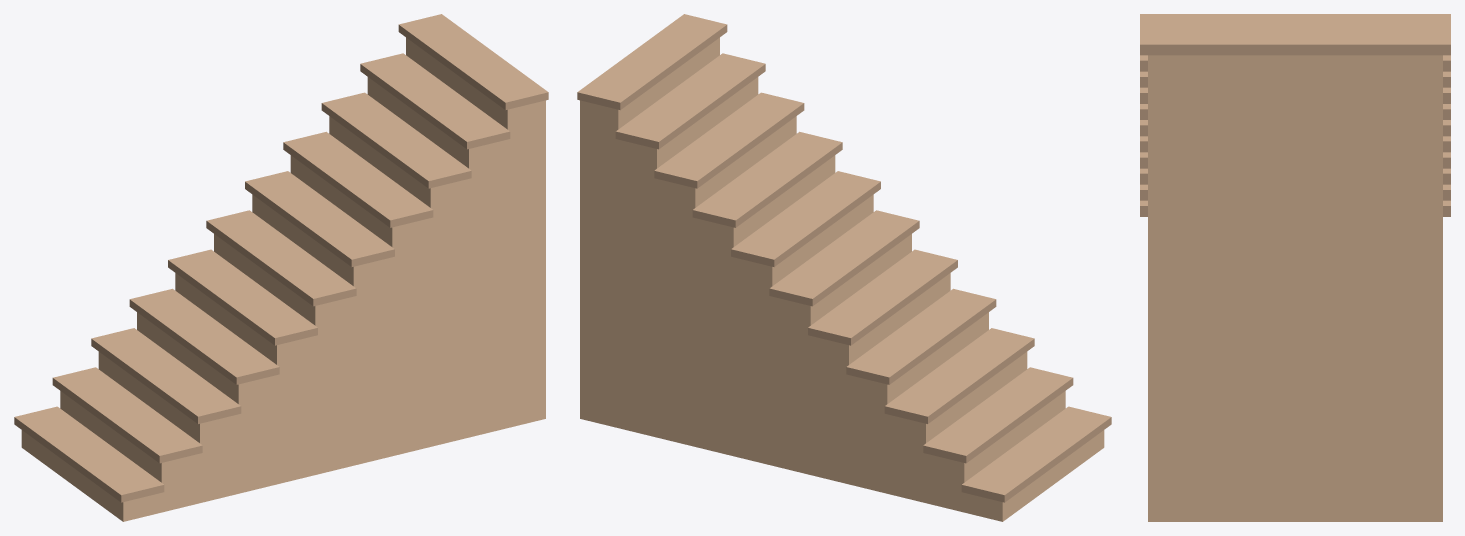
File: stairs.glb
3 renders of one model, left to right at view 1: azimuth 30°, elevation 25°; view 2: azimuth 150°, elevation 25°; view 3: azimuth 270°, elevation 25°, orthographic. The views are drawn at different scales.
Parts seen in each view (by area): view 1: stairs; view 2: stairs; view 3: stairs.
Part boxes in pixels (x1,y1,x2,y2): stairs: (14,14,548,521); stairs: (577,14,1111,521); stairs: (1140,14,1450,521).
Size of the model in its own units: 1.82 by 1.34 by 0.79.
